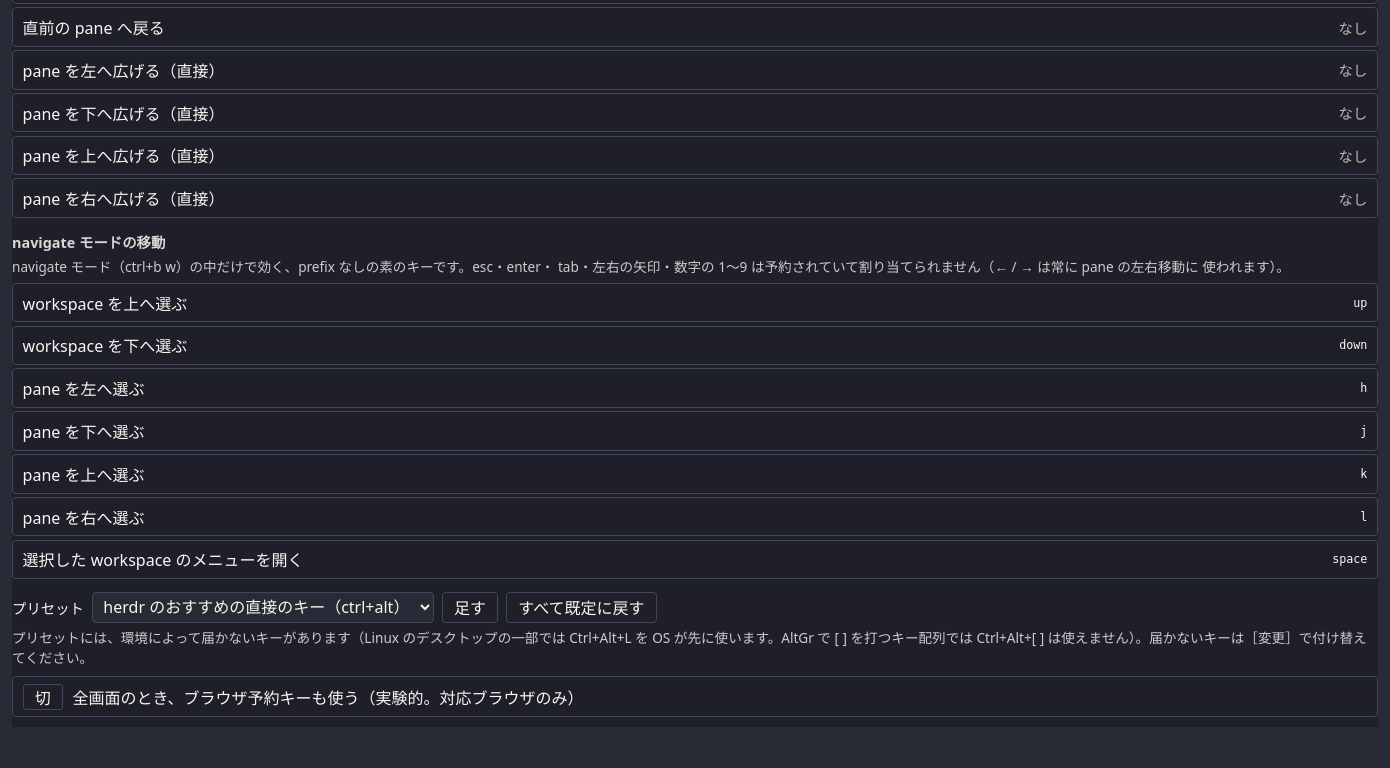
Test: KeySettings — herdr のおすすめの直接のキー（AC10） › 押すと 10 個の直接のキーが足され、足した数と一覧が出る。prefix の後のキーは残る
(page scrolled)
Step 1. Click the button "足す" → {"x": 470, "y": 607}, box [442,592,498,623]
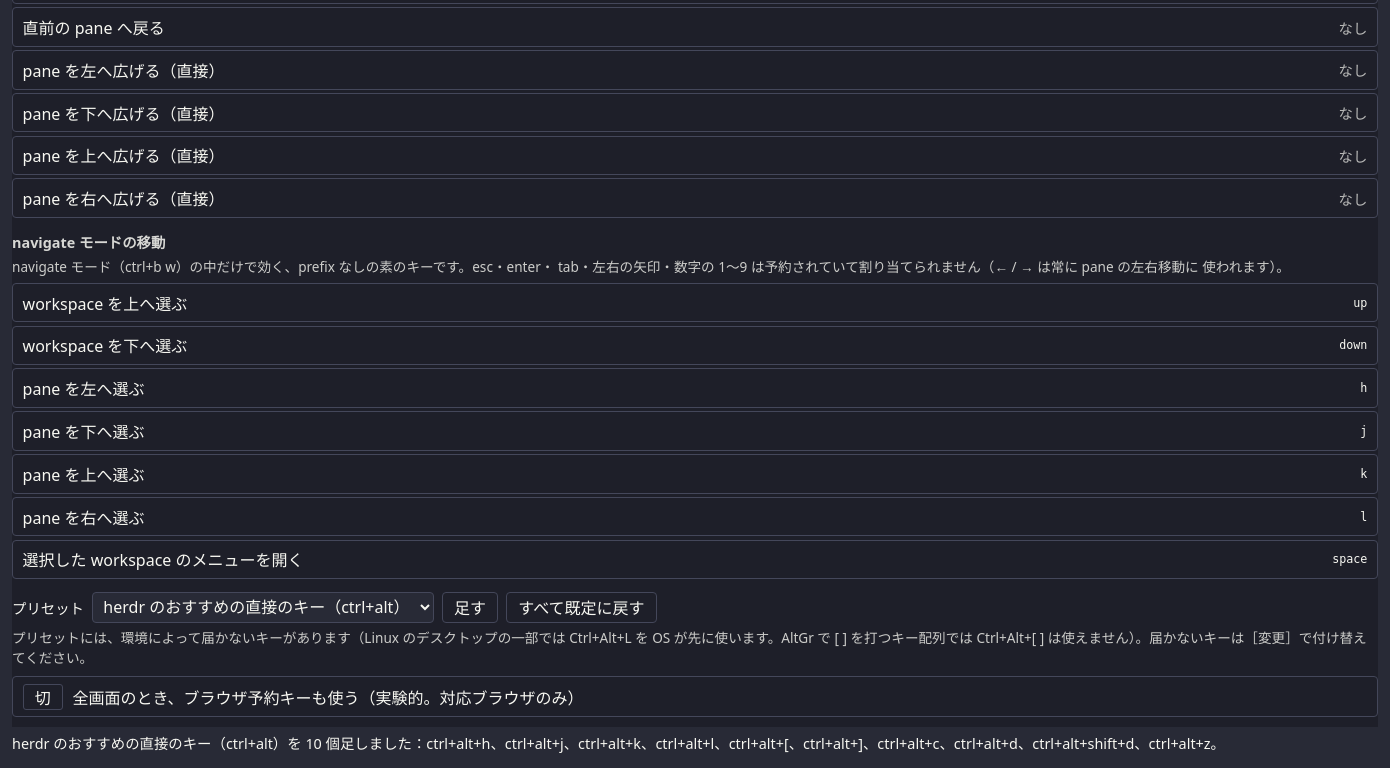
Now the message shows "10 個足しました", box [12,734,1225,752]
Now the message shows "ctrl+alt+shift+d", box [12,734,1225,752]
